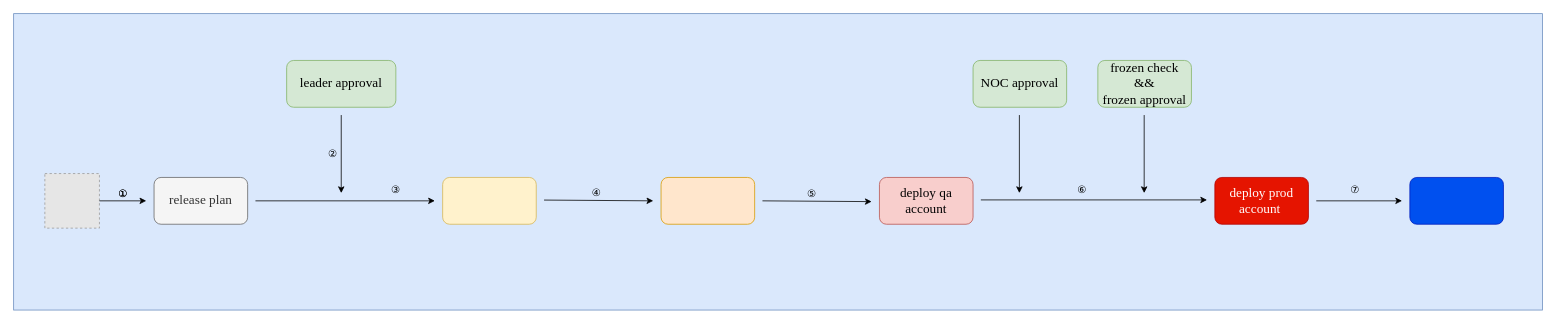
Image size: 1556x324. Some labels were removed from this diagram. Grey dashed boxes stand in for pictures. Each missing label, with the centre of its shape:
deploy sandbox account: point 707,200
git tag gitlab pipeline: point 489,200
report to NOC system: point 1456,200
